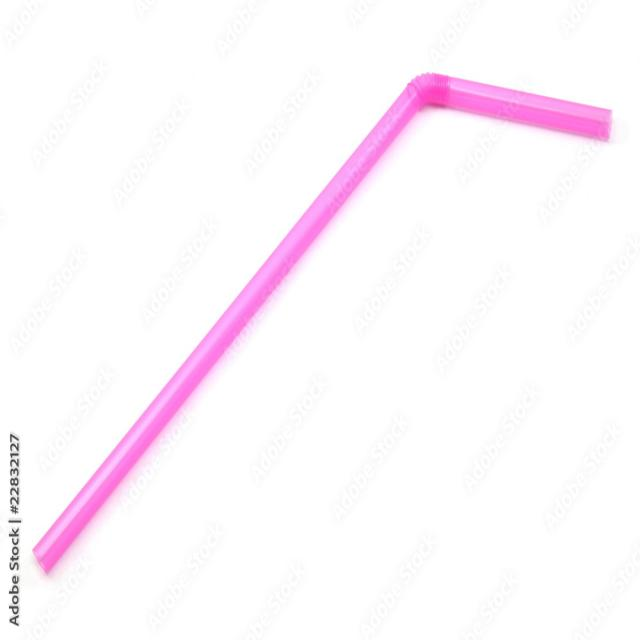plastic: (31, 40, 625, 611)
